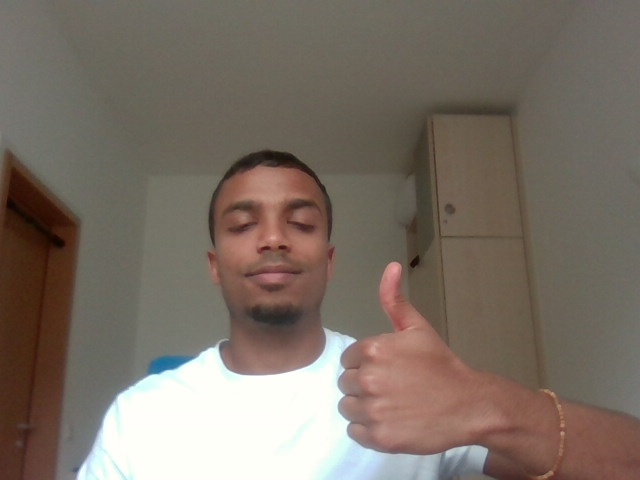yes: (327, 259, 520, 459)
